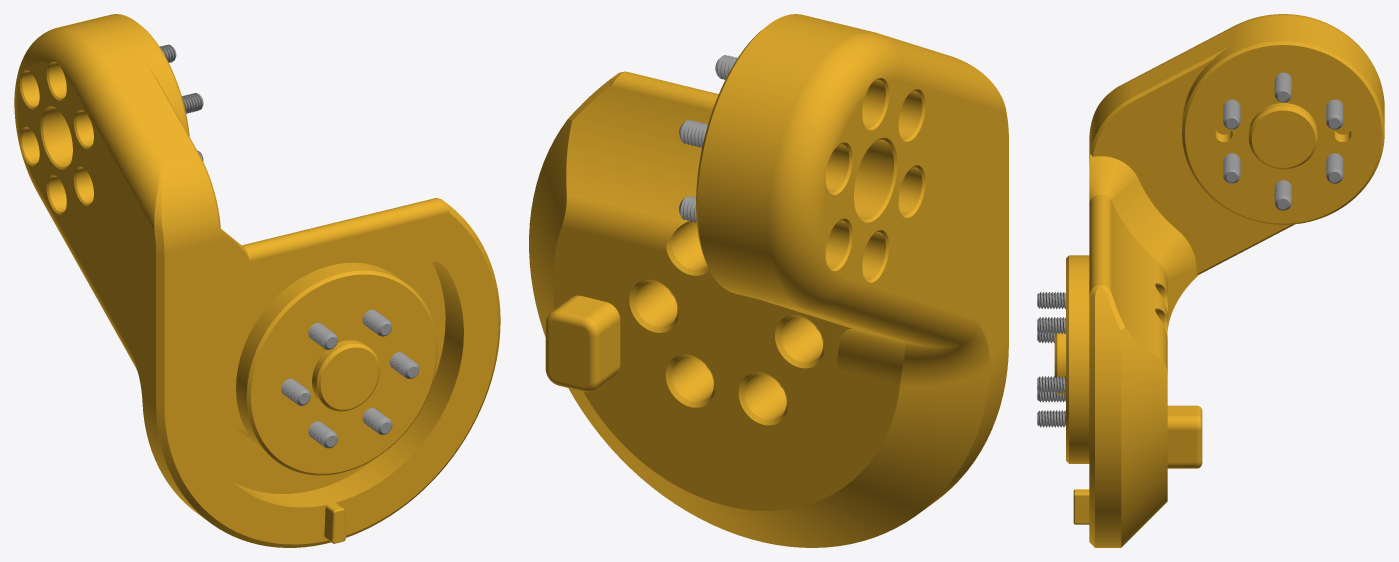
3 renders of one model, left to right at view 1: azimuth 30°, elevation 25°; view 2: azimuth 150°, elevation 25°; view 3: azimuth 270°, elevation 25°, orthographic. The views are drawn at different scales.
Parts seen in each view (by area): view 1: J1; view 2: J1; view 3: J1.
Boxes of the visible parts, x1=… form: J1: x1=14, y1=14, x2=500, y2=547; J1: x1=529, y1=14, x2=1008, y2=547; J1: x1=1037, y1=14, x2=1384, y2=547.
Size of the model in its own units: 0.065 by 0.06 by 0.085.
